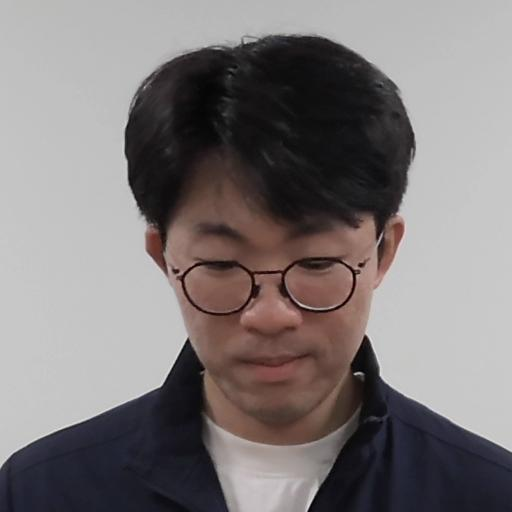no_glasses: (120, 28, 425, 425)
